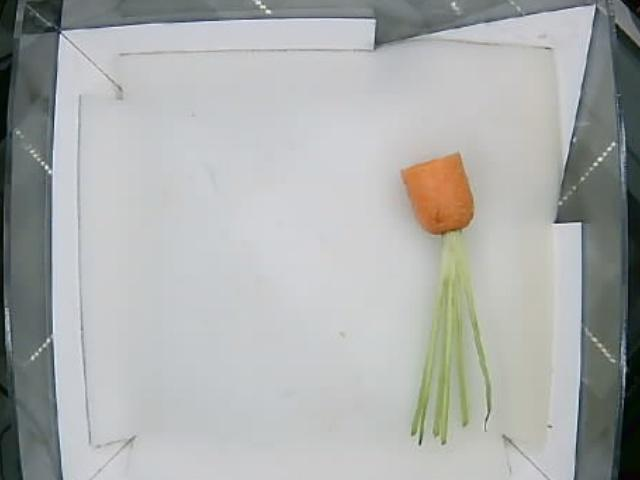Carrot: (401, 150, 478, 293)
